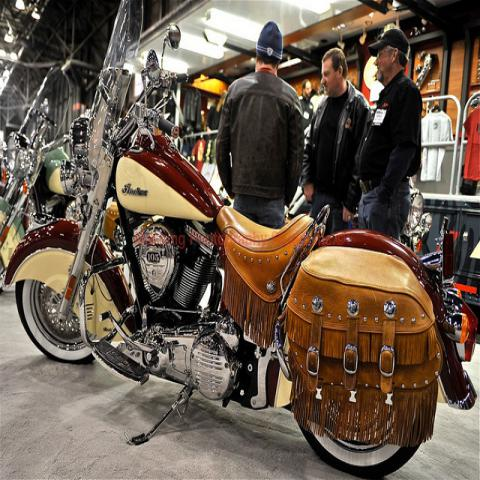motorcycle: (8, 0, 480, 471), (0, 62, 102, 286), (400, 174, 474, 288)
